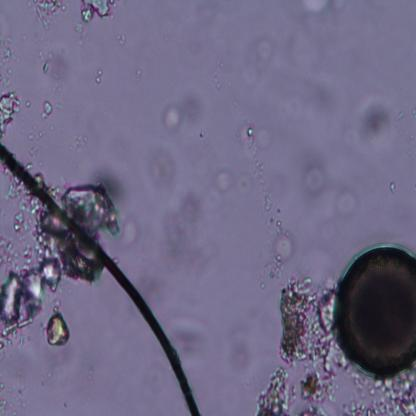Background material: (157, 195, 221, 275), (0, 255, 60, 330), (38, 220, 100, 287), (276, 274, 318, 364), (339, 370, 416, 414), (66, 181, 121, 239), (160, 312, 213, 366), (295, 363, 345, 415), (247, 365, 296, 415), (318, 289, 341, 365), (230, 327, 258, 381), (304, 74, 337, 118), (337, 182, 369, 223), (6, 182, 41, 215), (360, 103, 392, 139), (28, 0, 67, 29), (78, 0, 118, 26), (0, 88, 20, 137), (254, 43, 276, 87), (0, 29, 16, 87), (46, 311, 70, 348), (273, 230, 296, 264), (304, 164, 327, 197), (49, 48, 69, 82), (181, 93, 204, 121), (161, 106, 183, 134), (213, 167, 235, 194), (72, 18, 92, 47), (253, 156, 267, 196), (118, 222, 139, 246), (302, 1, 332, 16), (205, 70, 225, 90), (0, 379, 12, 412), (12, 212, 30, 233), (388, 171, 400, 195), (40, 100, 54, 120), (245, 125, 255, 148), (133, 66, 144, 84), (90, 70, 104, 84), (263, 195, 273, 213), (117, 32, 129, 47), (24, 96, 32, 110), (43, 62, 50, 74)
Diatom: (335, 244, 416, 378)
